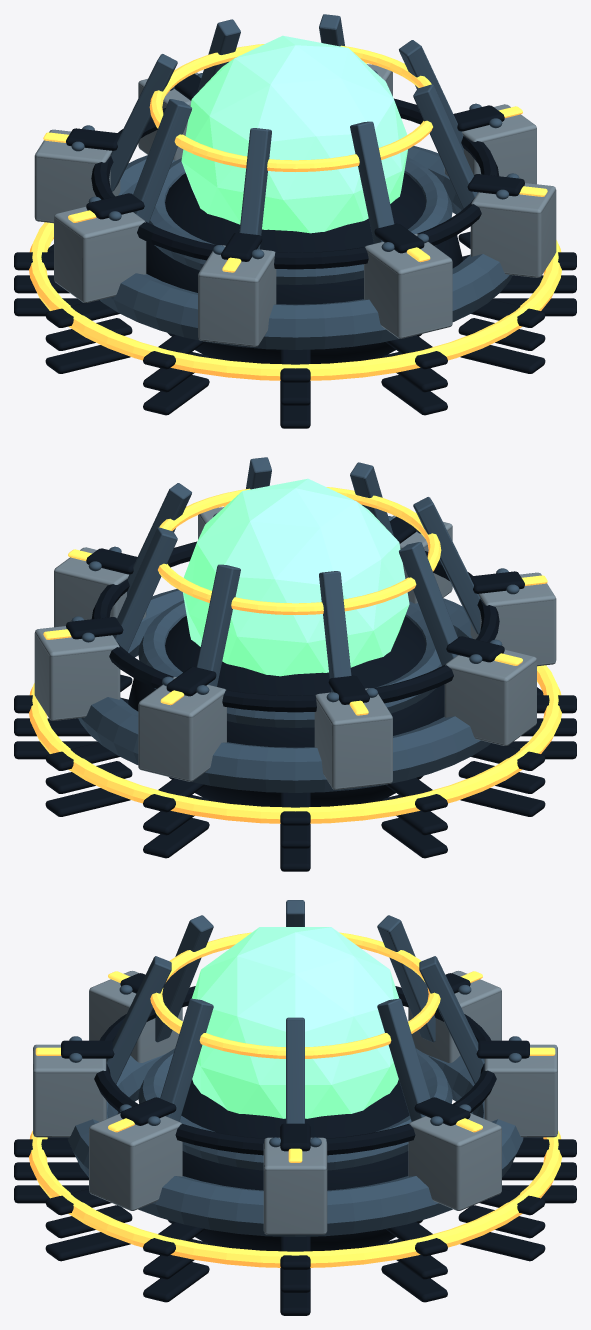
Rendered from forge-core.glb.
3 renders of one model, top to bottom at view 1: azimuth 30°, elevation 25°; view 2: azimuth 150°, elevation 25°; view 3: azimuth 270°, elevation 25°, orthographic.
Visible parts, largest first — view 1: Sphere; view 2: Sphere; view 3: Sphere.
Boxes of the visible parts, x1,y1,x2,y2 form: Sphere: [14, 14, 576, 428]; Sphere: [14, 457, 576, 871]; Sphere: [14, 900, 576, 1315].
Size of the model in its own units: 2.22 by 1.33 by 2.22.
